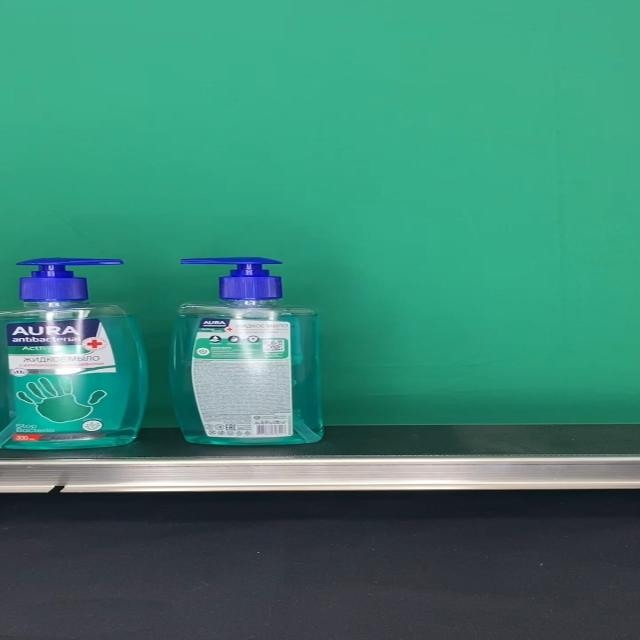Bottle: (172, 256, 324, 446), (0, 259, 148, 449)
Cap: (178, 257, 282, 300), (18, 259, 124, 301)
